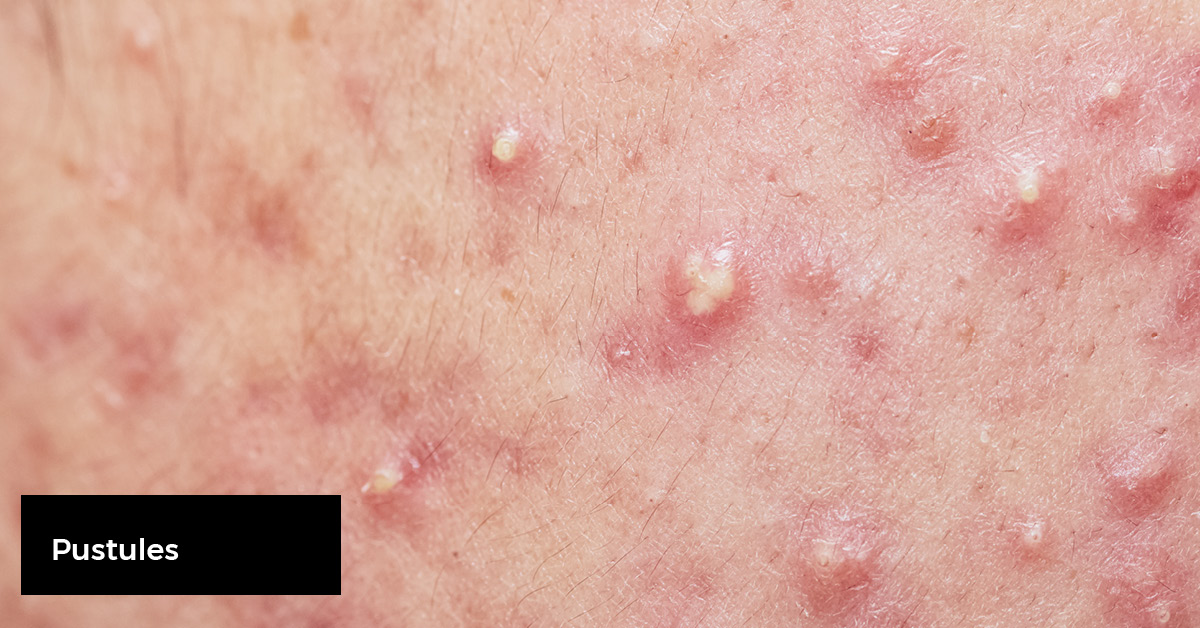bekas: (247, 195, 289, 245), (334, 358, 373, 397), (992, 223, 1033, 256), (486, 229, 522, 266), (303, 380, 335, 421), (343, 75, 373, 110), (502, 443, 532, 477), (686, 563, 715, 594), (1152, 208, 1181, 238), (386, 389, 417, 417), (374, 138, 405, 165), (286, 15, 313, 45), (410, 240, 437, 267), (656, 345, 686, 367), (344, 333, 370, 358), (1171, 298, 1195, 325), (495, 282, 523, 304), (299, 147, 321, 170), (1082, 101, 1104, 123), (298, 327, 318, 347), (892, 51, 912, 68), (540, 320, 555, 335)
jerawat: (1114, 454, 1176, 515), (904, 107, 958, 162), (1138, 165, 1173, 205), (882, 69, 919, 102), (794, 266, 833, 297), (1143, 569, 1173, 598), (852, 331, 880, 362), (1172, 79, 1200, 108), (604, 342, 633, 366), (1174, 169, 1200, 195), (636, 36, 662, 61), (714, 26, 738, 53), (1102, 584, 1130, 607), (856, 281, 881, 305), (423, 54, 446, 77), (622, 148, 643, 168), (950, 271, 969, 292), (437, 437, 458, 455), (956, 318, 973, 339), (404, 459, 425, 475), (975, 428, 991, 446)
pus: (675, 242, 748, 320), (798, 540, 847, 584), (481, 130, 527, 170), (365, 467, 404, 501), (1012, 175, 1048, 210), (1021, 524, 1048, 552), (1117, 205, 1143, 231), (851, 545, 876, 572), (1100, 78, 1124, 102), (1150, 604, 1174, 627)
